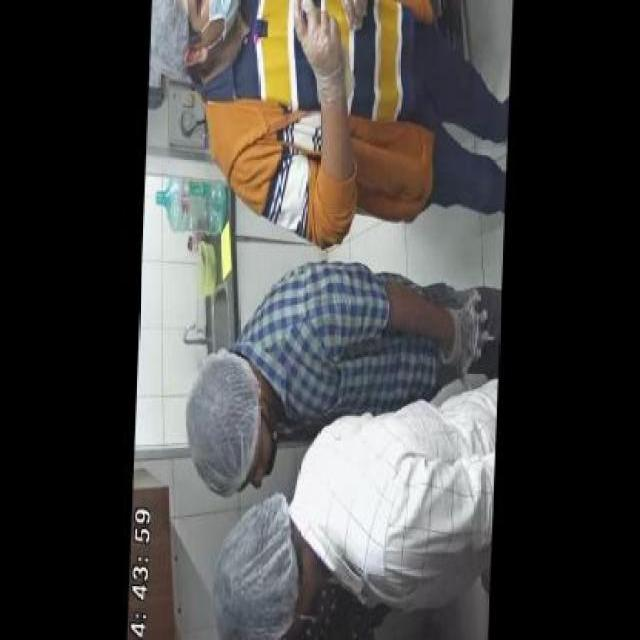hairnet: (214, 502, 297, 636), (184, 354, 259, 492), (150, 1, 192, 69)
